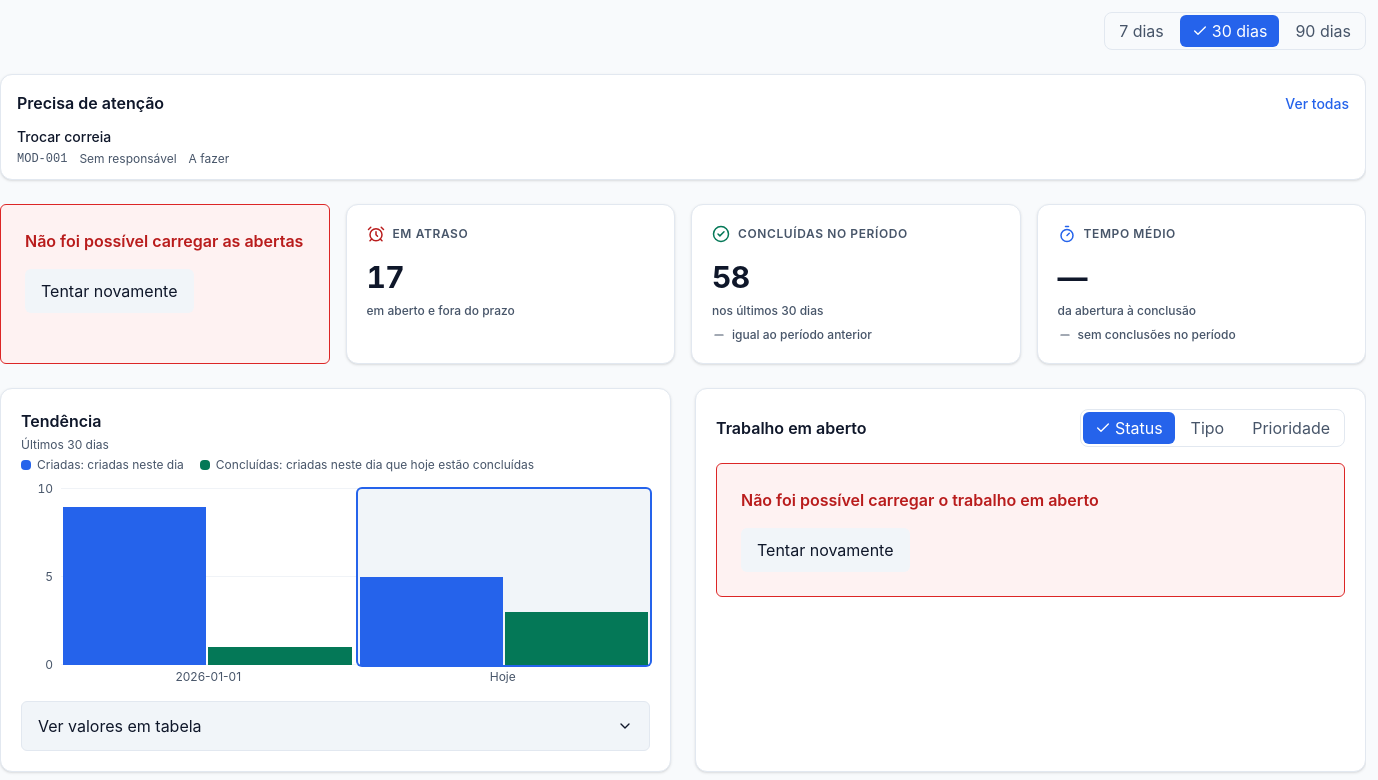
Scenario: SolicitacoesTab — erro de um bloco não derruba os outros › deve mostrar a contagem de abertas quando o usuário usa Tentar novamente em Abertas
Expected: the heading "Não foi possível carregar as abertas" is shown, [25,229,304,253]
Click the button "Tentar novamente" below "Não foi possível carregar as abertas" at (109, 291), box [25,269,194,313]
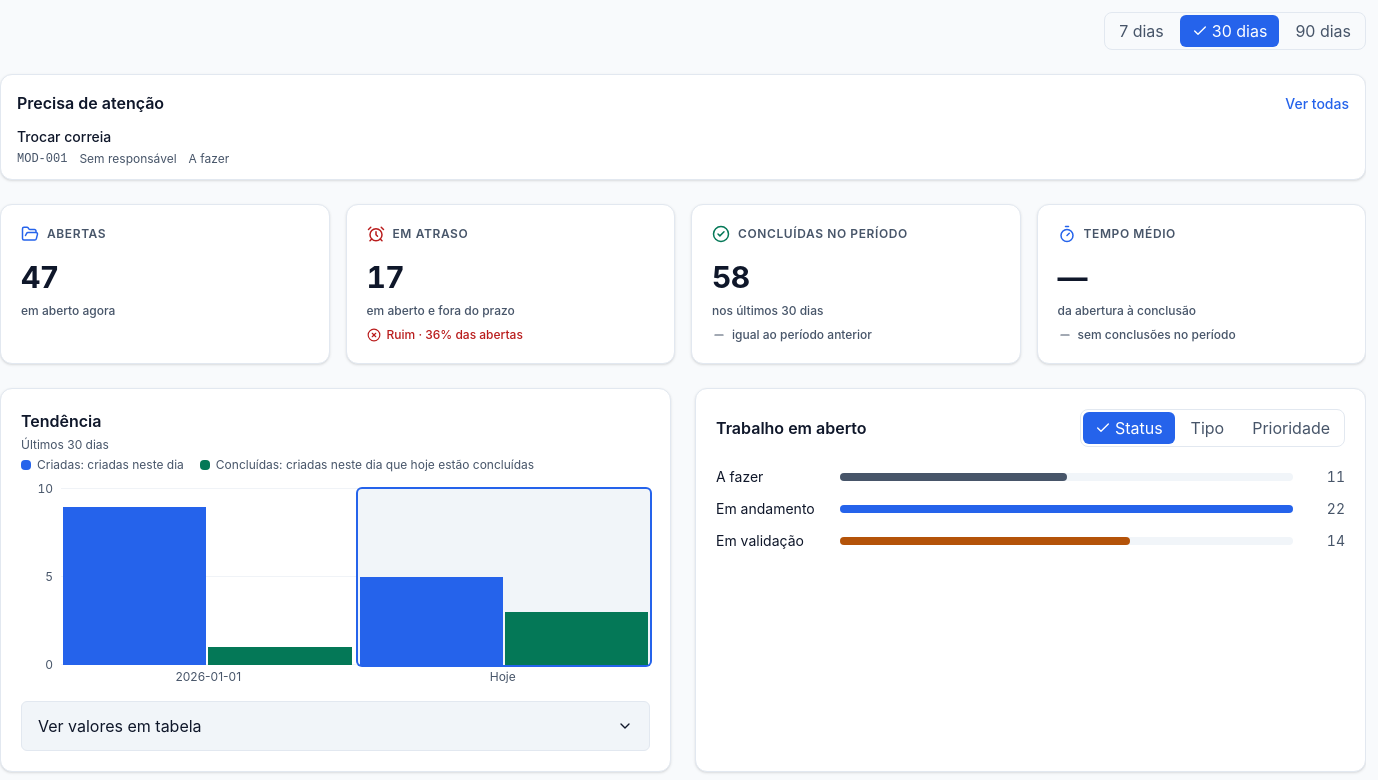
Result: the text "47" is shown at [21,259,58,295]
